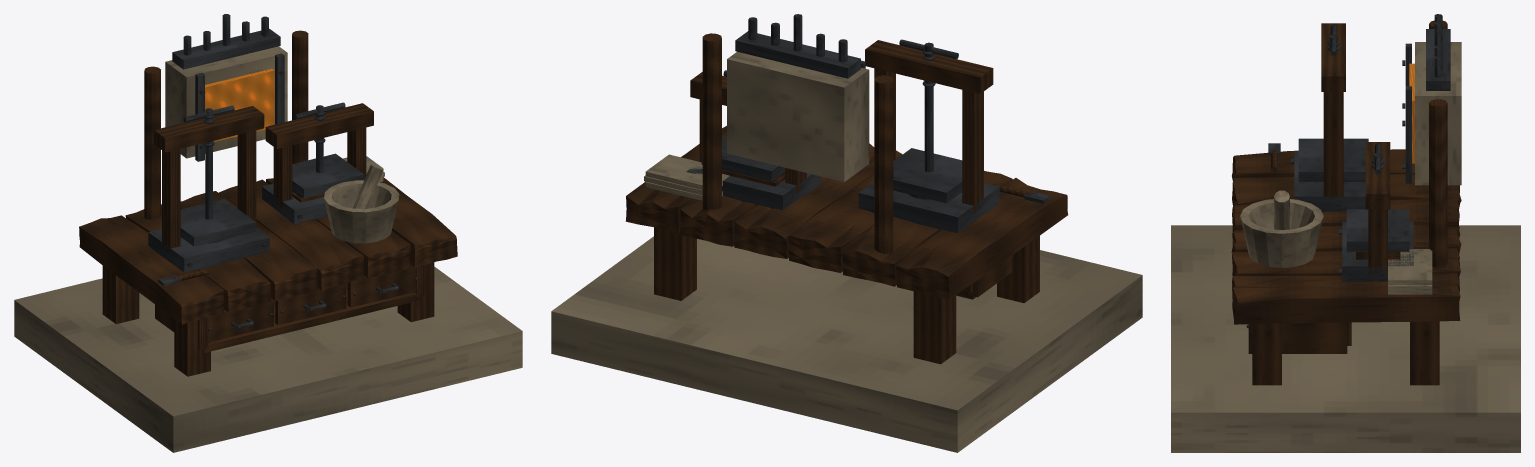
Rendered from underworld-station-crown-reliquary.glb.
The picture shows the model from 3 angles, left to right: view 1: azimuth 30°, elevation 25°; view 2: azimuth 150°, elevation 25°; view 3: azimuth 270°, elevation 25°; orthographic projection. The views are drawn at different scales.
Visible parts, largest first — view 1: bone-gravel-dais, worktop-slat-reliquary-0, worktop-slat-reliquary-3, reliquary-mounted-case, ossuary-mortar, worktop-slat-reliquary-2, worktop-slat-reliquary-5, worktop-slat-reliquary-1, amber-seal-press-bed, amber-seal-press-bridge, rotwood-lamination-clamp-bridge, reliquary-case-seal (+23 smaller); view 2: bone-gravel-dais, reliquary-mounted-case, worktop-slat-reliquary-0, worktop-slat-reliquary-3, worktop-slat-reliquary-2, amber-seal-press-bridge, worktop-slat-reliquary-1, reliquary-back-post--1, reliquary-back-post-1, amber-seal-press-bed, amber-seal-press-platen, rotwood-leg--1-1 (+11 smaller); view 3: bone-gravel-dais, worktop-slat-reliquary-5, ossuary-mortar, reliquary-mounted-case, reliquary-back-post-1, worktop-slat-reliquary-1, worktop-slat-reliquary-4, amber-seal-press-post-1, amber-seal-press-platen, reliquary-drawers-side-1, rotwood-leg-1-1, rotwood-lamination-clamp-platen (+14 smaller).
Boxes of the visible parts, left/top/right/bottom form: bone-gravel-dais: left=14, top=266, right=522, bottom=452; worktop-slat-reliquary-0: left=79, top=215, right=224, bottom=324; worktop-slat-reliquary-3: left=219, top=179, right=364, bottom=290; reliquary-mounted-case: left=165, top=46, right=287, bottom=158; ossuary-mortar: left=324, top=180, right=399, bottom=243; worktop-slat-reliquary-2: left=180, top=191, right=317, bottom=300; worktop-slat-reliquary-5: left=380, top=177, right=457, bottom=267; worktop-slat-reliquary-1: left=125, top=204, right=271, bottom=312; amber-seal-press-bed: left=148, top=228, right=269, bottom=272; amber-seal-press-bridge: left=154, top=106, right=264, bottom=152; rotwood-lamination-clamp-bridge: left=265, top=103, right=373, bottom=148; reliquary-case-seal: left=205, top=68, right=274, bottom=141; bone-gravel-dais: left=551, top=236, right=1142, bottom=452; reliquary-mounted-case: left=727, top=51, right=869, bottom=182; worktop-slat-reliquary-0: left=896, top=178, right=1068, bottom=299; worktop-slat-reliquary-3: left=734, top=143, right=902, bottom=258; worktop-slat-reliquary-2: left=788, top=174, right=874, bottom=272; amber-seal-press-bridge: left=865, top=40, right=993, bottom=93; worktop-slat-reliquary-1: left=842, top=171, right=1012, bottom=286; reliquary-back-post--1: left=874, top=75, right=893, bottom=253; reliquary-back-post-1: left=702, top=33, right=721, bottom=209; amber-seal-press-bed: left=858, top=182, right=999, bottom=232; amber-seal-press-platen: left=893, top=148, right=962, bottom=203; rotwood-leg--1-1: left=913, top=291, right=956, bottom=364; bone-gravel-dais: left=1171, top=225, right=1520, bottom=452; worktop-slat-reliquary-5: left=1232, top=273, right=1460, bottom=324; ossuary-mortar: left=1240, top=199, right=1323, bottom=267; reliquary-mounted-case: left=1415, top=42, right=1461, bottom=185; reliquary-back-post-1: left=1429, top=99, right=1447, bottom=268; worktop-slat-reliquary-1: left=1232, top=174, right=1461, bottom=215; worktop-slat-reliquary-4: left=1231, top=248, right=1460, bottom=292; amber-seal-press-post-1: left=1323, top=92, right=1343, bottom=202; amber-seal-press-platen: left=1298, top=138, right=1368, bottom=181; reliquary-drawers-side-1: left=1248, top=322, right=1347, bottom=352; rotwood-leg-1-1: left=1410, top=321, right=1439, bottom=385; rotwood-lamination-clamp-platen: left=1346, top=209, right=1409, bottom=251.
Bounding box in the file's own units: 3.6 × 3.01 × 2.84.
Materials: 4 (4 with a texture image).
